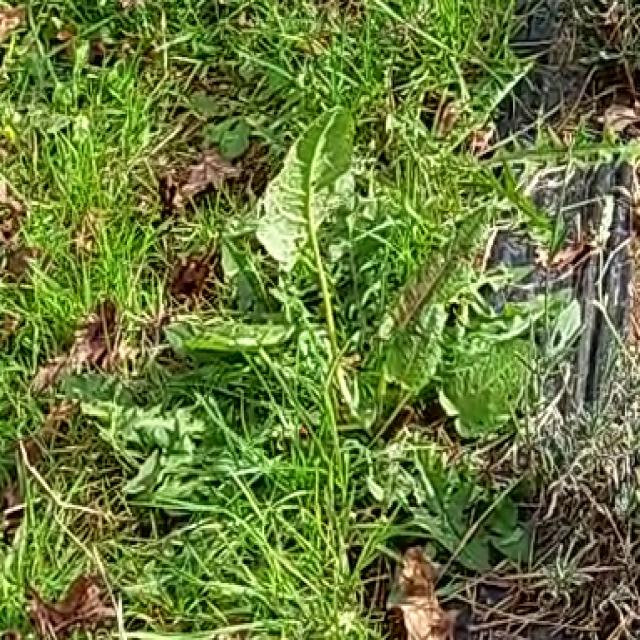organic waste: (132, 102, 607, 476)
